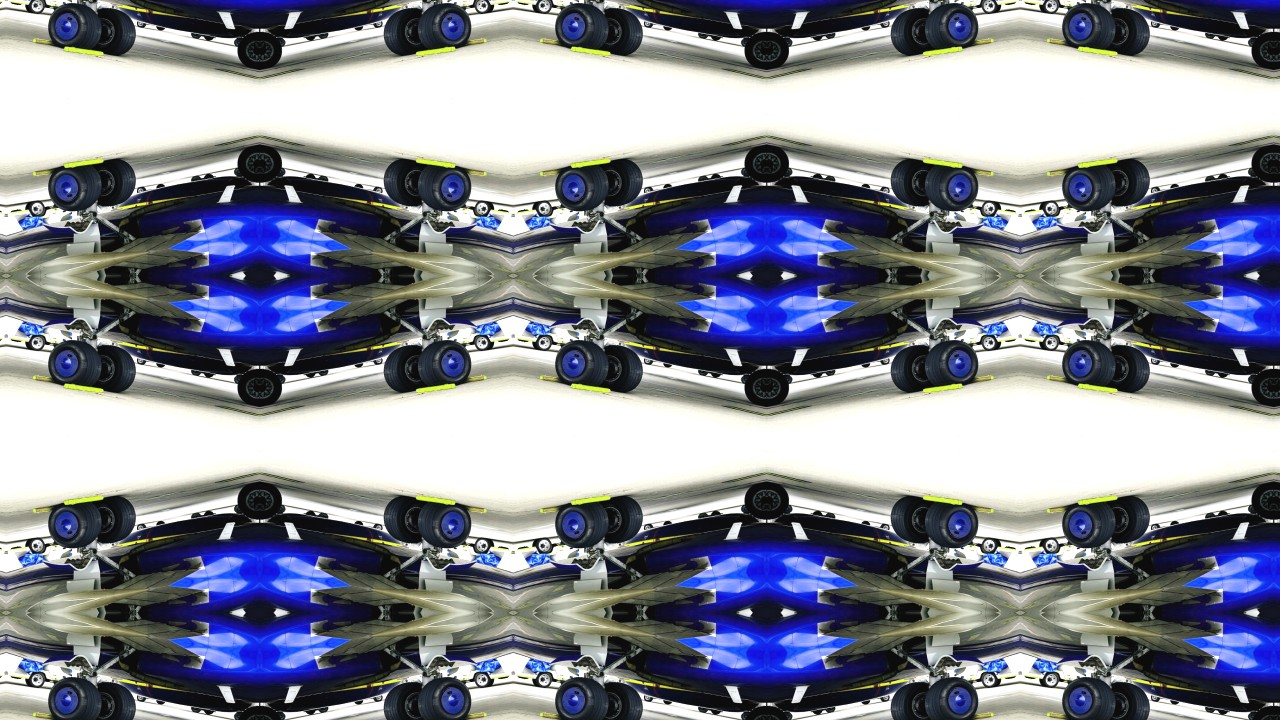chock: (62, 44, 105, 57), (413, 44, 456, 57), (570, 44, 613, 57), (921, 44, 964, 57), (1078, 44, 1121, 57), (62, 156, 105, 169), (413, 156, 456, 169), (570, 156, 613, 169), (921, 156, 964, 169), (1078, 156, 1121, 169), (62, 382, 105, 395), (413, 382, 456, 395), (570, 382, 613, 395), (921, 382, 964, 395), (1078, 382, 1121, 395), (62, 494, 105, 507), (413, 494, 456, 507), (570, 494, 613, 507), (921, 494, 964, 507), (1078, 494, 1121, 507), (30, 35, 68, 48), (450, 35, 488, 48), (538, 35, 576, 48), (958, 35, 996, 48), (1046, 35, 1084, 48), (30, 165, 68, 178), (450, 165, 488, 178), (538, 165, 576, 178), (958, 165, 996, 178), (1046, 165, 1084, 178), (30, 373, 68, 386), (450, 373, 488, 386), (538, 373, 576, 386), (958, 373, 996, 386), (1046, 373, 1084, 386), (30, 503, 68, 516), (450, 503, 488, 516), (538, 503, 576, 516), (958, 503, 996, 516), (1046, 503, 1084, 516), (30, 711, 68, 720), (450, 711, 488, 720), (538, 711, 576, 720), (958, 711, 996, 720), (1046, 711, 1084, 720)
wheel: (43, 161, 104, 216), (414, 161, 475, 216), (551, 161, 612, 216), (922, 161, 983, 216), (1059, 161, 1120, 216), (43, 335, 104, 390), (414, 335, 475, 390), (551, 335, 612, 390), (922, 335, 983, 390), (1059, 335, 1120, 390), (43, 499, 104, 554), (414, 499, 475, 554), (551, 499, 612, 554), (922, 499, 983, 554), (1059, 499, 1120, 554), (43, 0, 104, 52), (414, 0, 475, 52), (551, 0, 612, 52), (922, 0, 983, 52), (1059, 0, 1120, 52), (43, 673, 104, 720), (414, 673, 475, 720), (551, 673, 612, 720), (922, 673, 983, 720), (1059, 673, 1120, 720), (86, 4, 139, 57), (379, 4, 432, 57), (594, 4, 647, 57), (887, 4, 940, 57), (1102, 4, 1155, 57), (86, 156, 139, 209), (379, 156, 432, 209), (594, 156, 647, 209), (887, 156, 940, 209), (1102, 156, 1155, 209), (86, 342, 139, 395), (379, 342, 432, 395), (594, 342, 647, 395), (887, 342, 940, 395), (1102, 342, 1155, 395), (86, 494, 139, 547), (379, 494, 432, 547), (594, 494, 647, 547), (887, 494, 940, 547), (1102, 494, 1155, 547), (86, 680, 139, 720), (379, 680, 432, 720), (594, 680, 647, 720), (887, 680, 940, 720), (1102, 680, 1155, 720), (233, 28, 259, 70), (259, 28, 285, 70), (741, 28, 767, 70), (767, 28, 793, 70), (1249, 28, 1275, 70), (233, 143, 259, 185), (259, 143, 285, 185), (741, 143, 767, 185), (767, 143, 793, 185), (1249, 143, 1275, 185), (233, 366, 259, 408), (259, 366, 285, 408), (741, 366, 767, 408), (767, 366, 793, 408), (1249, 366, 1275, 408), (233, 481, 259, 523), (259, 481, 285, 523), (741, 481, 767, 523), (767, 481, 793, 523), (1249, 481, 1275, 523), (23, 199, 45, 218), (473, 199, 495, 218), (531, 199, 553, 218), (981, 199, 1003, 218), (1039, 199, 1061, 218), (23, 333, 45, 352), (473, 333, 495, 352), (531, 333, 553, 352), (981, 333, 1003, 352), (1039, 333, 1061, 352), (23, 537, 45, 556), (473, 537, 495, 556), (531, 537, 553, 556), (981, 537, 1003, 556), (1039, 537, 1061, 556), (23, 671, 45, 690), (473, 671, 495, 690), (531, 671, 553, 690), (981, 671, 1003, 690), (1039, 671, 1061, 690), (233, 704, 259, 720), (259, 704, 285, 720), (741, 704, 767, 720), (767, 704, 793, 720), (1249, 704, 1275, 720), (23, 0, 45, 14), (473, 0, 495, 14), (531, 0, 553, 14), (981, 0, 1003, 14), (1039, 0, 1061, 14), (1275, 28, 1280, 70), (1275, 143, 1280, 185), (1275, 366, 1280, 408), (1275, 481, 1280, 523), (232, 36, 241, 46), (277, 36, 286, 46), (740, 36, 749, 46), (785, 36, 794, 46), (1248, 36, 1257, 46), (232, 167, 241, 177), (277, 167, 286, 177), (740, 167, 749, 177), (785, 167, 794, 177), (1248, 167, 1257, 177), (232, 374, 241, 384), (277, 374, 286, 384), (740, 374, 749, 384), (785, 374, 794, 384), (1248, 374, 1257, 384), (232, 505, 241, 515), (277, 505, 286, 515), (740, 505, 749, 515), (785, 505, 794, 515), (1248, 505, 1257, 515), (22, 3, 32, 11), (486, 3, 496, 11), (530, 3, 540, 11), (994, 3, 1004, 11), (1038, 3, 1048, 11), (22, 202, 32, 210), (486, 202, 496, 210), (530, 202, 540, 210), (994, 202, 1004, 210), (1038, 202, 1048, 210), (22, 341, 32, 349), (486, 341, 496, 349), (530, 341, 540, 349), (994, 341, 1004, 349), (1038, 341, 1048, 349), (22, 540, 32, 548), (486, 540, 496, 548), (530, 540, 540, 548), (994, 540, 1004, 548), (1038, 540, 1048, 548), (22, 679, 32, 687), (486, 679, 496, 687), (530, 679, 540, 687), (994, 679, 1004, 687), (1038, 679, 1048, 687), (232, 712, 241, 720), (277, 712, 286, 720), (740, 712, 749, 720), (785, 712, 794, 720), (1248, 712, 1257, 720), (135, 20, 145, 27), (373, 20, 383, 27), (643, 20, 653, 27), (881, 20, 891, 27), (1151, 20, 1161, 27), (135, 186, 145, 193), (373, 186, 383, 193), (643, 186, 653, 193), (881, 186, 891, 193), (1151, 186, 1161, 193), (135, 358, 145, 365), (373, 358, 383, 365), (643, 358, 653, 365), (881, 358, 891, 365), (1151, 358, 1161, 365), (135, 524, 145, 531), (373, 524, 383, 531), (643, 524, 653, 531), (881, 524, 891, 531), (1151, 524, 1161, 531), (135, 696, 145, 703), (373, 696, 383, 703), (643, 696, 653, 703), (881, 696, 891, 703), (1151, 696, 1161, 703), (202, 34, 213, 40), (305, 34, 316, 40), (710, 34, 721, 40), (813, 34, 824, 40), (1218, 34, 1229, 40), (202, 173, 213, 179), (305, 173, 316, 179), (710, 173, 721, 179), (813, 173, 824, 179), (1218, 173, 1229, 179), (202, 372, 213, 378), (305, 372, 316, 378), (710, 372, 721, 378), (813, 372, 824, 378), (1218, 372, 1229, 378), (202, 511, 213, 517), (305, 511, 316, 517), (710, 511, 721, 517), (813, 511, 824, 517), (1218, 511, 1229, 517), (202, 710, 213, 716), (305, 710, 316, 716), (710, 710, 721, 716), (813, 710, 824, 716), (1218, 710, 1229, 716), (190, 32, 200, 38), (318, 32, 328, 38), (698, 32, 708, 38), (826, 32, 836, 38), (1206, 32, 1216, 38), (190, 175, 200, 181), (318, 175, 328, 181), (698, 175, 708, 181), (826, 175, 836, 181), (1206, 175, 1216, 181), (190, 370, 200, 376), (318, 370, 328, 376), (698, 370, 708, 376), (826, 370, 836, 376), (1206, 370, 1216, 376), (190, 513, 200, 519), (318, 513, 328, 519), (698, 513, 708, 519), (826, 513, 836, 519), (1206, 513, 1216, 519), (190, 708, 200, 714), (318, 708, 328, 714), (698, 708, 708, 714), (826, 708, 836, 714), (1206, 708, 1216, 714), (155, 25, 164, 30), (354, 25, 363, 30), (663, 25, 672, 30), (862, 25, 871, 30), (1171, 25, 1180, 30), (155, 183, 164, 188), (354, 183, 363, 188), (663, 183, 672, 188), (862, 183, 871, 188), (1171, 183, 1180, 188), (155, 363, 164, 368), (354, 363, 363, 368), (663, 363, 672, 368), (862, 363, 871, 368), (1171, 363, 1180, 368), (155, 521, 164, 526), (354, 521, 363, 526), (663, 521, 672, 526), (862, 521, 871, 526), (1171, 521, 1180, 526), (155, 701, 164, 706), (354, 701, 363, 706), (663, 701, 672, 706), (862, 701, 871, 706), (1171, 701, 1180, 706), (9, 0, 20, 4), (498, 0, 509, 4), (517, 0, 528, 4), (1006, 0, 1017, 4), (1025, 0, 1036, 4), (9, 209, 20, 213), (498, 209, 509, 213), (517, 209, 528, 213), (1006, 209, 1017, 213), (1025, 209, 1036, 213), (9, 338, 20, 342), (498, 338, 509, 342), (517, 338, 528, 342), (1006, 338, 1017, 342), (1025, 338, 1036, 342), (9, 547, 20, 551), (498, 547, 509, 551), (517, 547, 528, 551), (1006, 547, 1017, 551), (1025, 547, 1036, 551), (9, 676, 20, 680), (498, 676, 509, 680), (517, 676, 528, 680), (1006, 676, 1017, 680), (1025, 676, 1036, 680), (43, 3, 50, 7), (468, 3, 475, 7), (551, 3, 558, 7), (976, 3, 983, 7), (1059, 3, 1066, 7), (43, 206, 50, 210), (468, 206, 475, 210), (551, 206, 558, 210), (976, 206, 983, 210), (1059, 206, 1066, 210), (43, 341, 50, 345), (468, 341, 475, 345), (551, 341, 558, 345), (976, 341, 983, 345), (1059, 341, 1066, 345), (43, 544, 50, 548), (468, 544, 475, 548), (551, 544, 558, 548), (976, 544, 983, 548), (1059, 544, 1066, 548), (43, 679, 50, 683), (468, 679, 475, 683), (551, 679, 558, 683), (976, 679, 983, 683), (1059, 679, 1066, 683), (0, 0, 1, 4), (0, 209, 1, 213), (0, 338, 1, 342), (0, 547, 1, 551), (0, 676, 1, 680)
